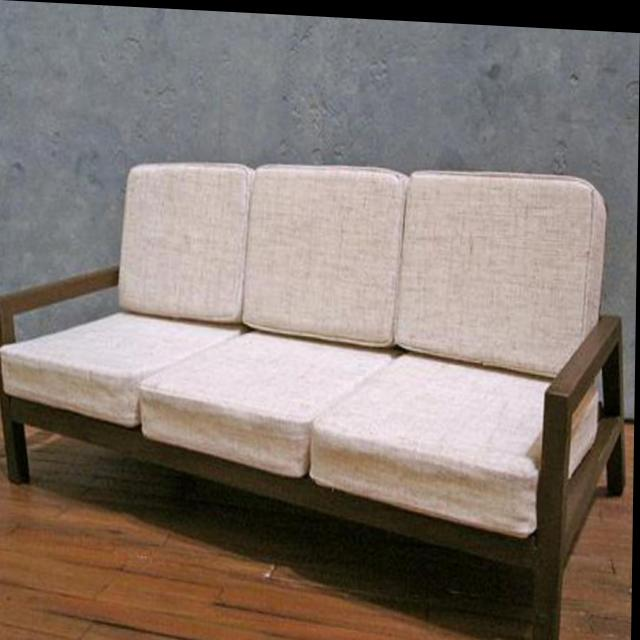Sofa: (0, 142, 631, 640)
